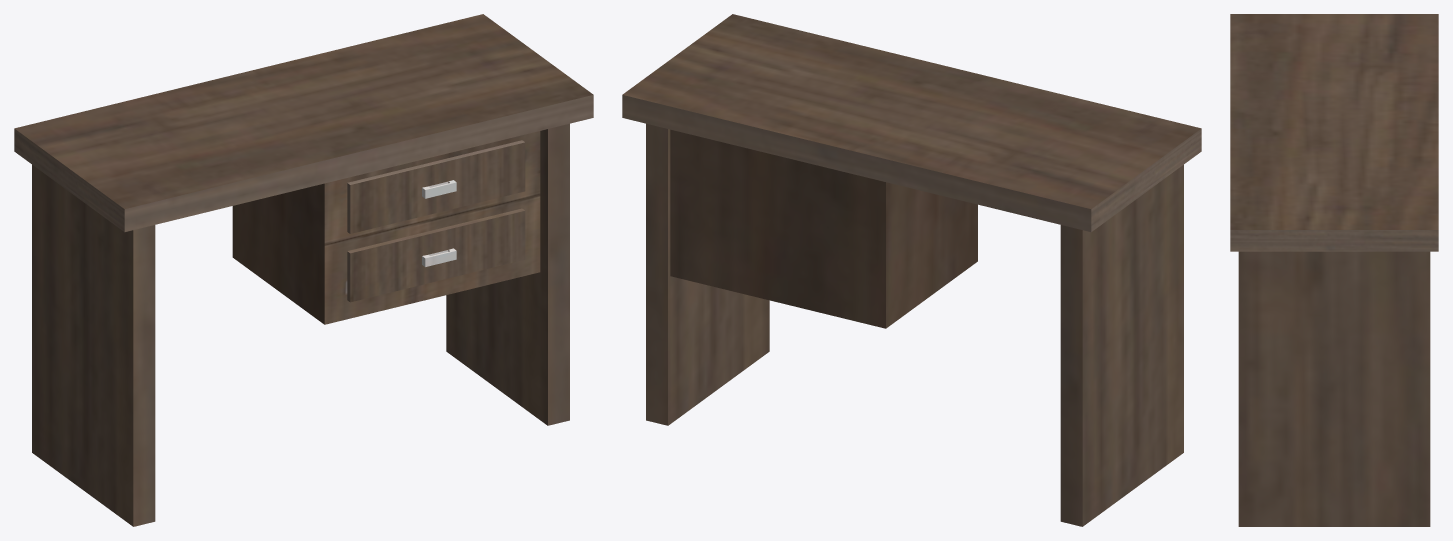
File: MesaEscritorio.obj
The picture shows the model from 3 angles, left to right: view 1: azimuth 30°, elevation 25°; view 2: azimuth 150°, elevation 25°; view 3: azimuth 270°, elevation 25°; orthographic projection. The views are drawn at different scales.
Visible parts, largest first — view 1: MesaEscritorio_Cube; view 2: MesaEscritorio_Cube; view 3: MesaEscritorio_Cube.
Part boxes in pixels (<box>): MesaEscritorio_Cube: <box>14,14,593,526</box>; MesaEscritorio_Cube: <box>622,14,1201,526</box>; MesaEscritorio_Cube: <box>1230,14,1438,526</box>.
Bounding box in the file's own units: 5.24 × 3.46 × 2.14.
Materials: 1 (1 with a texture image).
